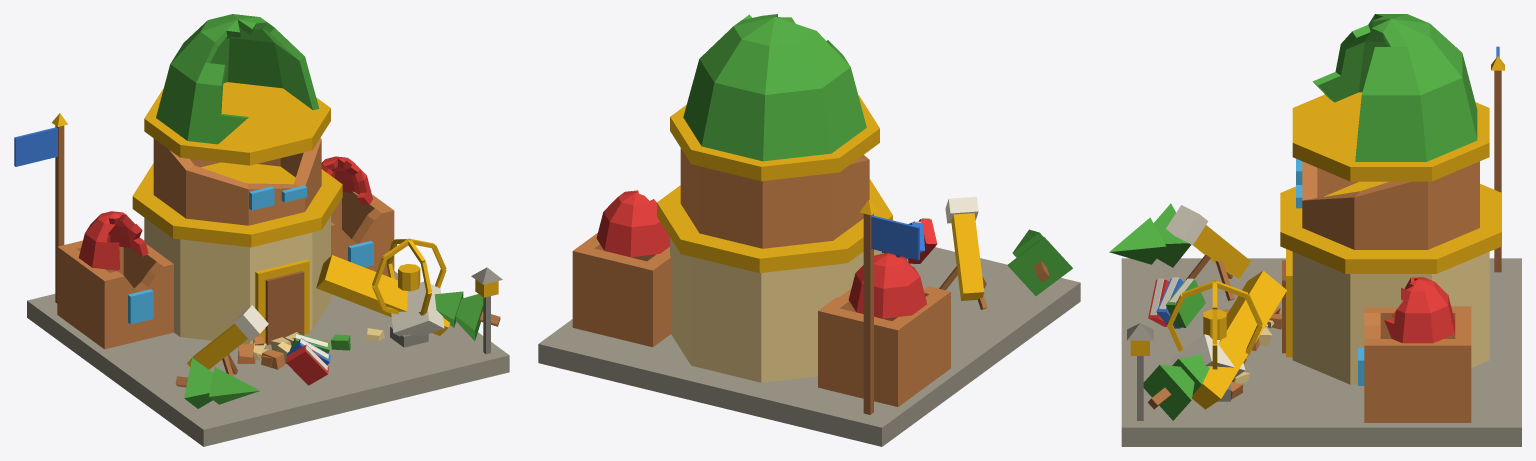
File: observatory_t3_v2_dmg1.glb
3 renders of one model, left to right at view 1: azimuth 30°, elevation 25°; view 2: azimuth 150°, elevation 25°; view 3: azimuth 270°, elevation 25°, orthographic. The views are drawn at different scales.
Visible parts, largest first — view 1: observatory_t3_v2_dmg1; view 2: observatory_t3_v2_dmg1; view 3: observatory_t3_v2_dmg1.
Boxes of the visible parts, left/top/right/bottom form: observatory_t3_v2_dmg1: left=14, top=14, right=509, bottom=446; observatory_t3_v2_dmg1: left=538, top=14, right=1080, bottom=446; observatory_t3_v2_dmg1: left=1109, top=14, right=1521, bottom=446.
Bounding box in the file's own units: 0.8263 × 0.71 × 0.7736.
Materials: 1 (1 with a texture image).
